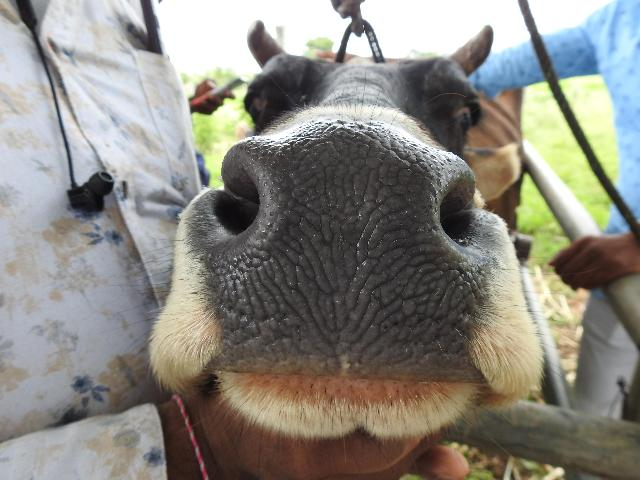Muzzle: (247, 135, 447, 370)
